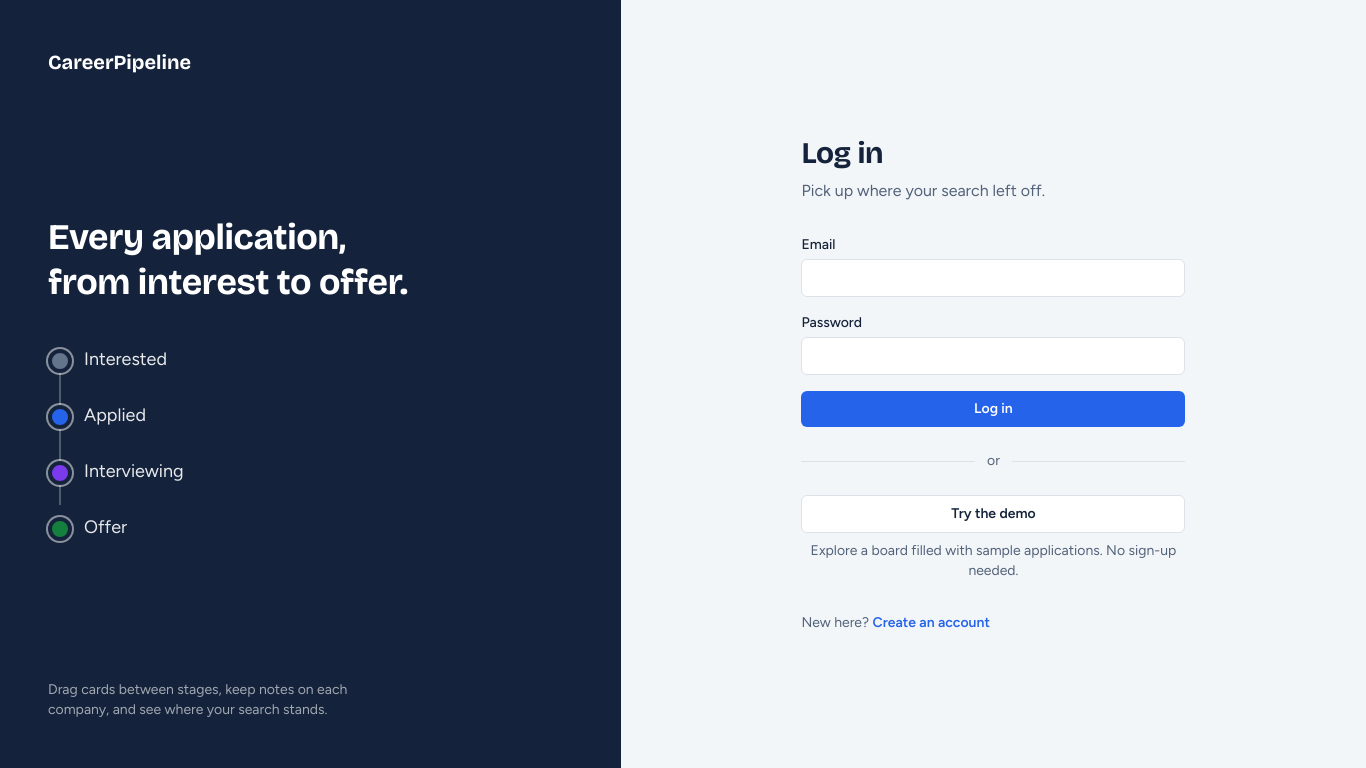
Test: wrong credentials show an error and stay on the login page
In the field labelled "Email": (993, 278) [801,259,1185,297], type "a@b.test"
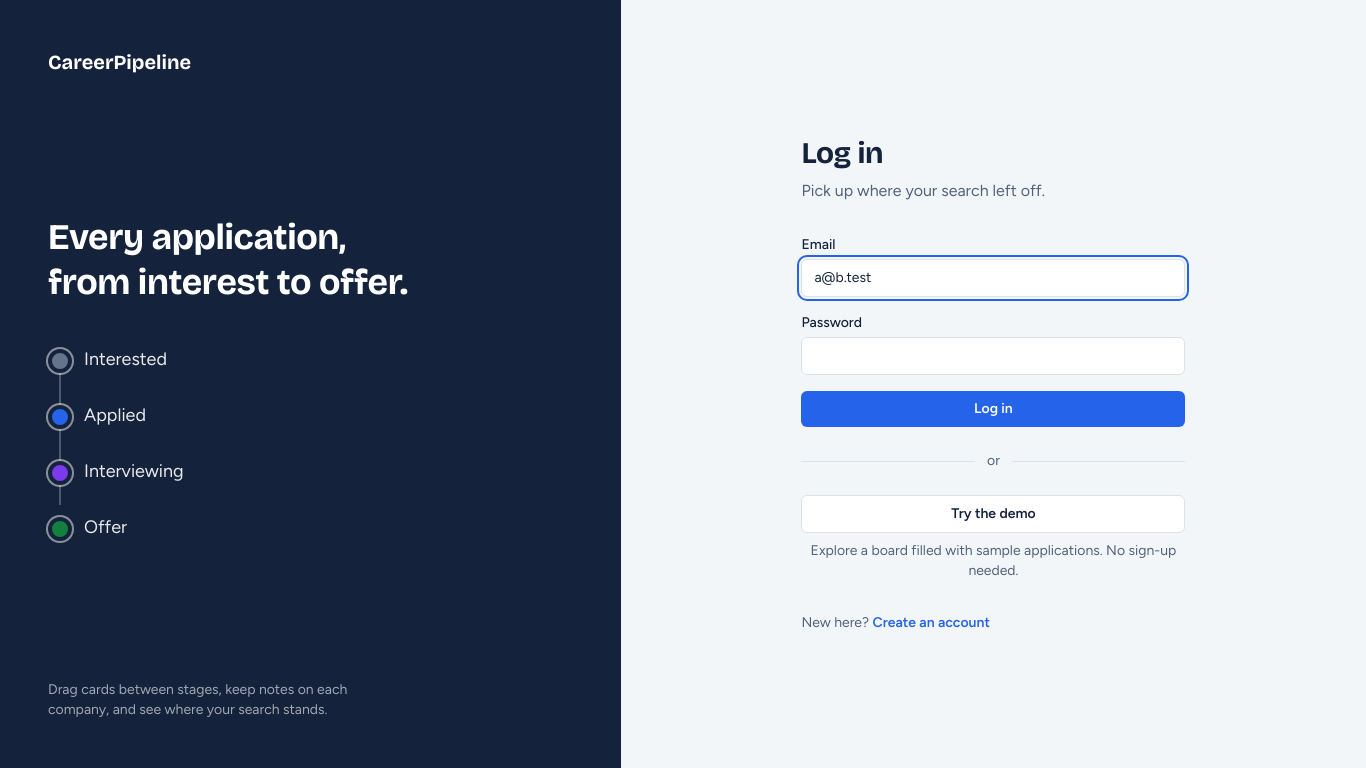
In the password field labelled "Password": (993, 356) [801,337,1185,375], type "wrong"
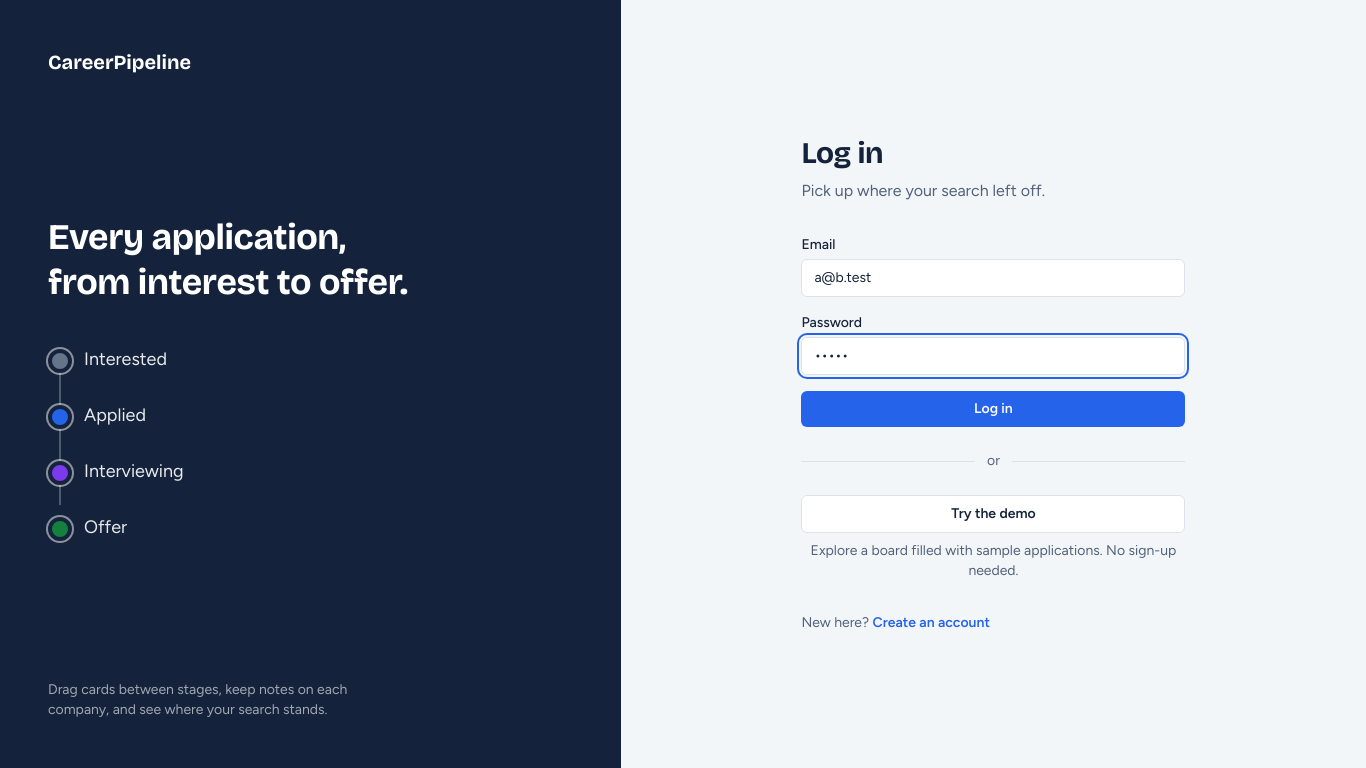
Click the button "Log in": (993, 409) [801,391,1185,427]
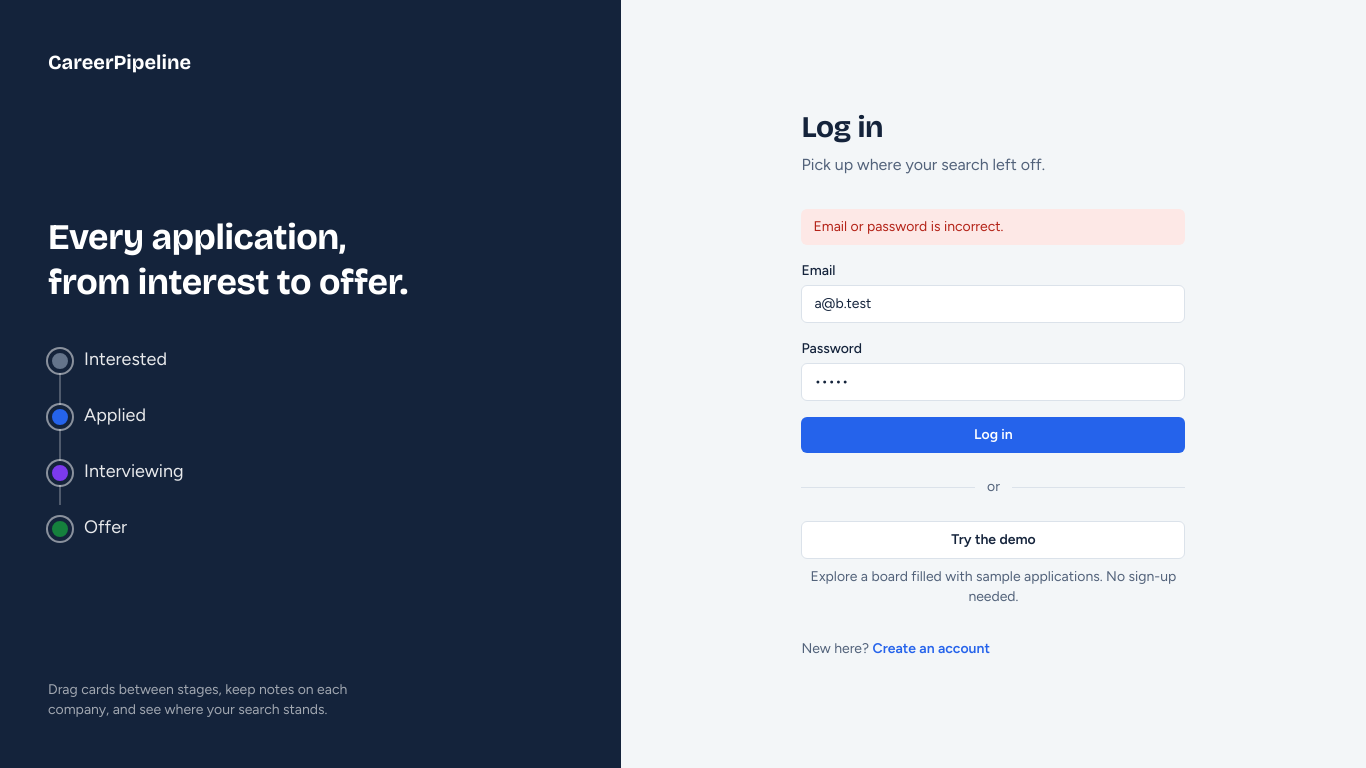
Check: the heading "Log in" is shown, box [801,109,883,145]
Check: the message reads "Email or password is incorrect.", box [813,218,1004,235]
